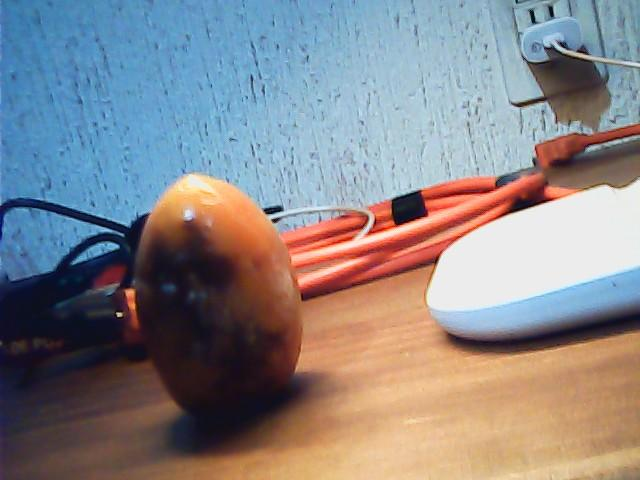defectuoso: (138, 170, 305, 426)
